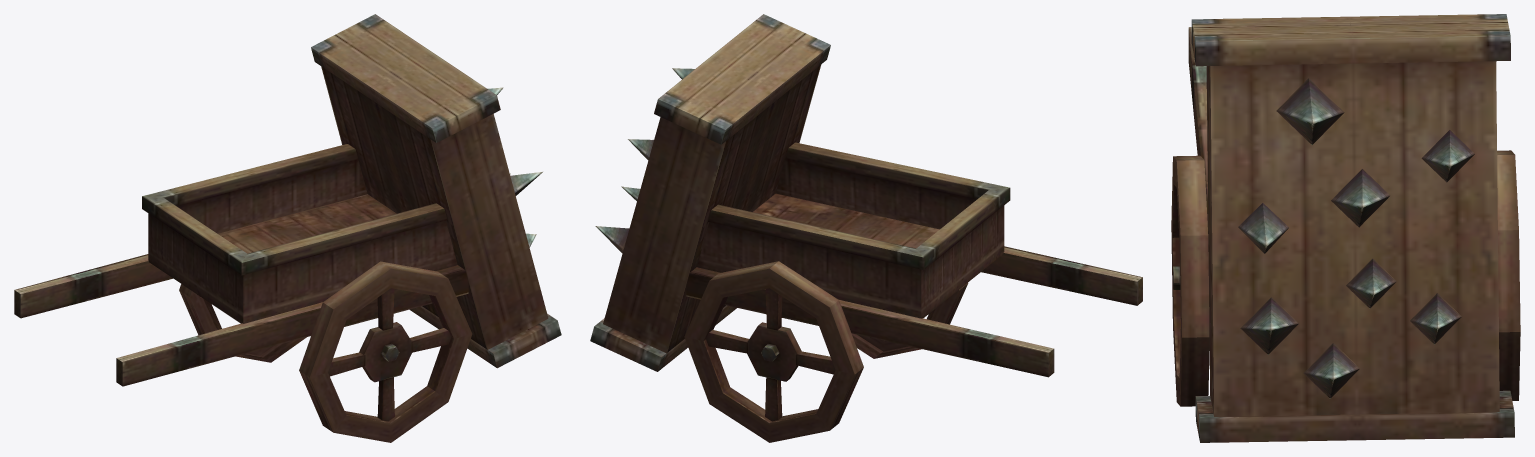
File: SC001Jwujian_16.FBX
The picture shows the model from 3 angles, left to right: view 1: azimuth 30°, elevation 25°; view 2: azimuth 150°, elevation 25°; view 3: azimuth 270°, elevation 25°; orthographic projection. The views are drawn at different scales.
Visible parts, largest first — view 1: SC001Jwujian_16; view 2: SC001Jwujian_16; view 3: SC001Jwujian_16.
Part boxes in pixels (x1,y1,x2,y2): SC001Jwujian_16: [14, 14, 561, 442]; SC001Jwujian_16: [590, 14, 1142, 442]; SC001Jwujian_16: [1171, 14, 1520, 442].
Bounding box in the file's own units: 2.71 × 1.76 × 1.27.
